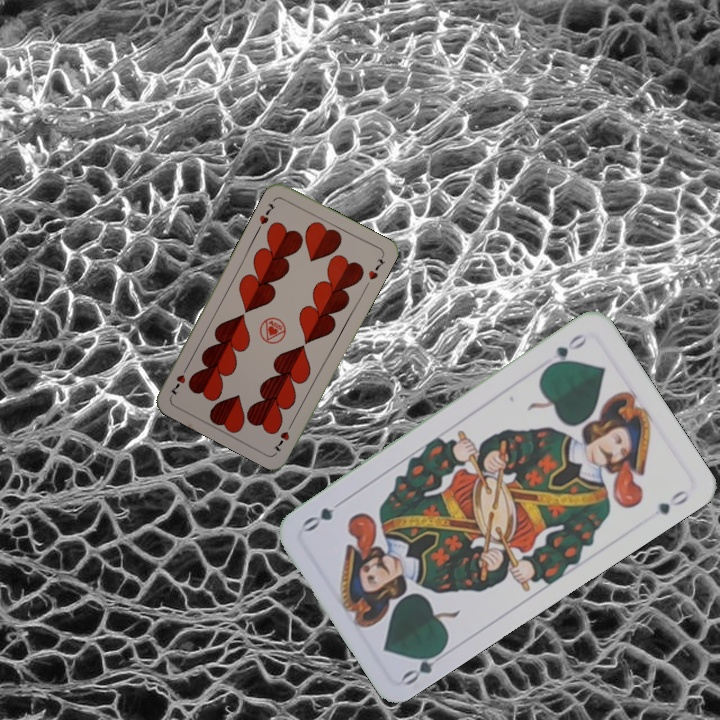GO: (398, 643, 448, 688), (542, 330, 590, 372)
H7: (269, 418, 296, 455), (255, 199, 278, 227)
